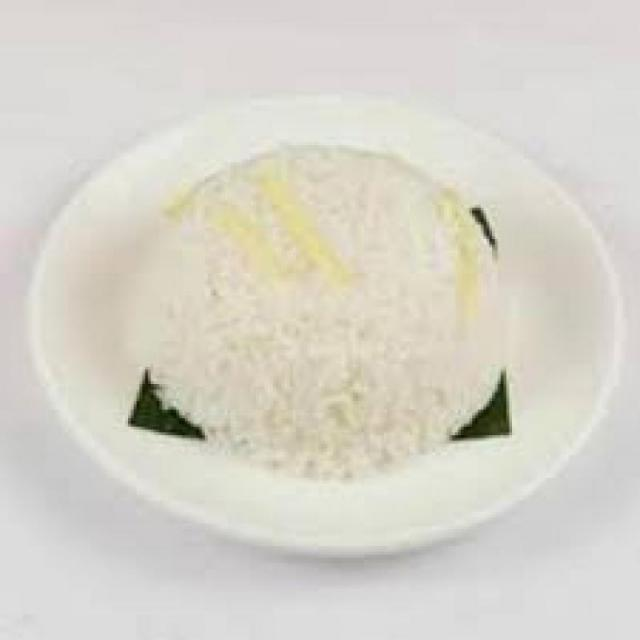rice: (139, 141, 507, 479)
